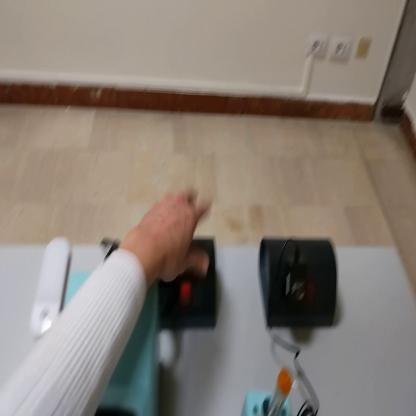hand: (128, 188, 211, 284)
socket: (253, 237, 341, 333), (156, 234, 216, 331)
welder base: (240, 360, 295, 413)
welder station: (66, 274, 159, 415)
